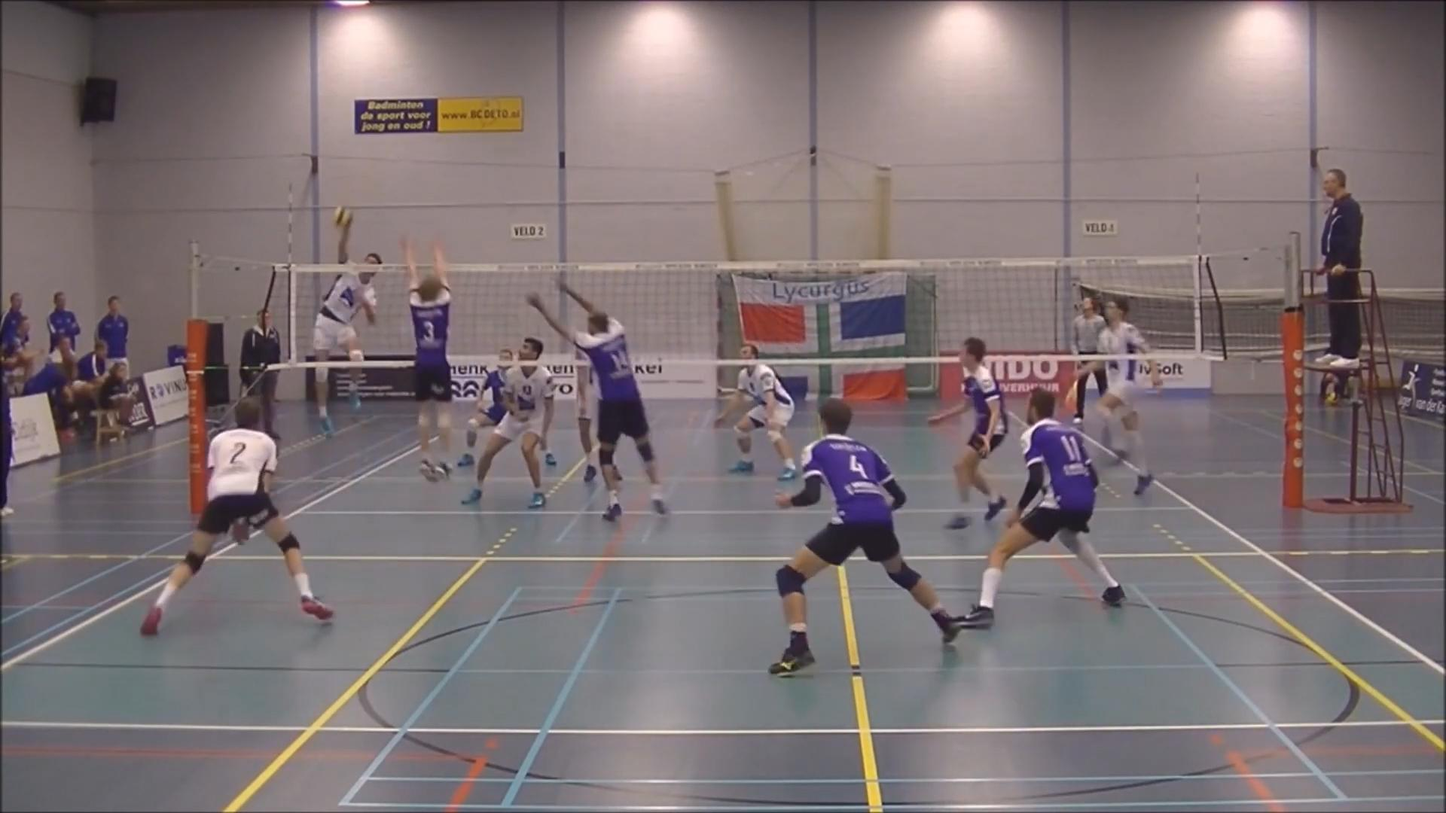Attack: (303, 203, 384, 435)
Block: (526, 275, 683, 527), (382, 229, 475, 495)
Player: (769, 398, 961, 675), (142, 398, 332, 635), (959, 389, 1124, 628), (462, 337, 554, 509), (928, 338, 1008, 520), (1090, 297, 1161, 495), (715, 343, 797, 480), (457, 348, 514, 467), (575, 349, 597, 483)
ball: (333, 205, 354, 231)
